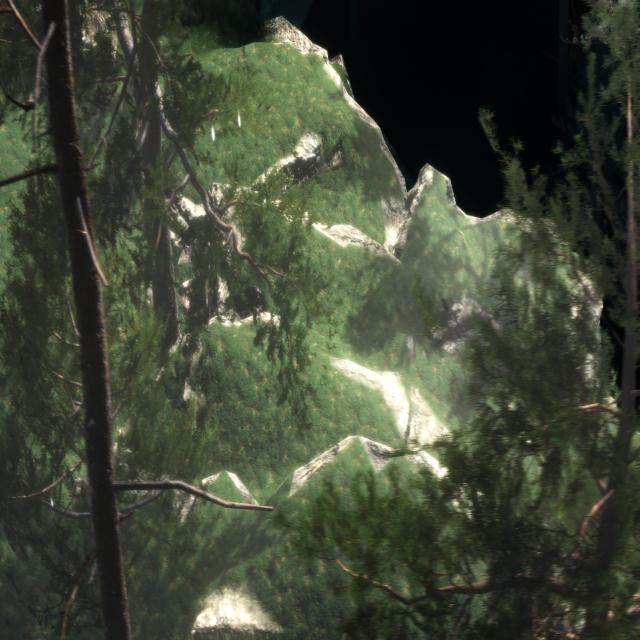Human: (162, 48, 216, 137)
